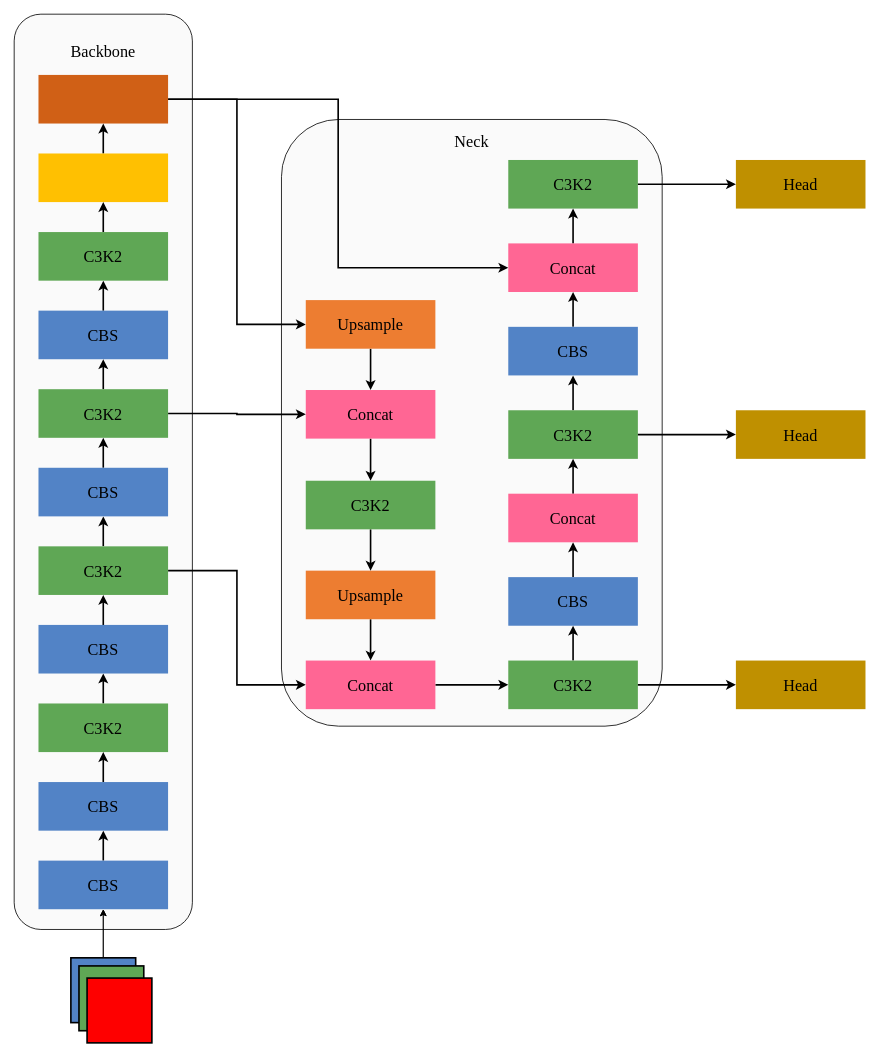
Some shapes in this 880 by 1058 pixel diagram are drawn without their labels. Here are the shapes that lost their labels. From the top down, the box of each, then its label:
(38, 75, 168, 123): C2PSA
(38, 153, 168, 202): SPPF
